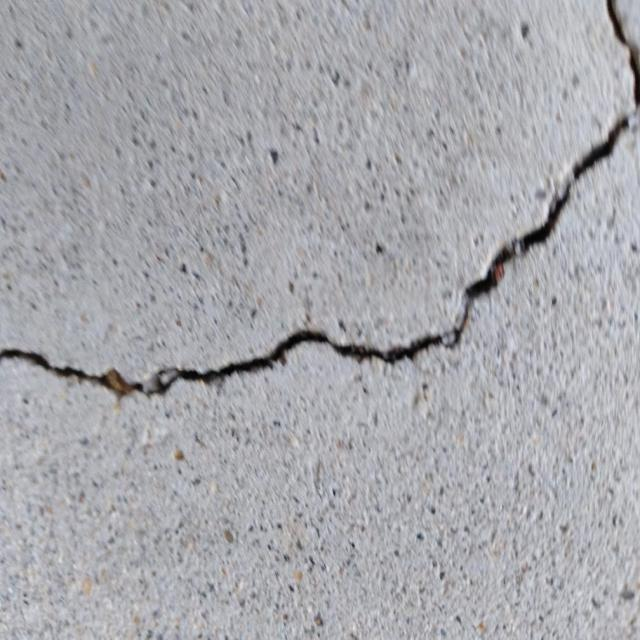diagonal crack: (0, 0, 639, 400)
